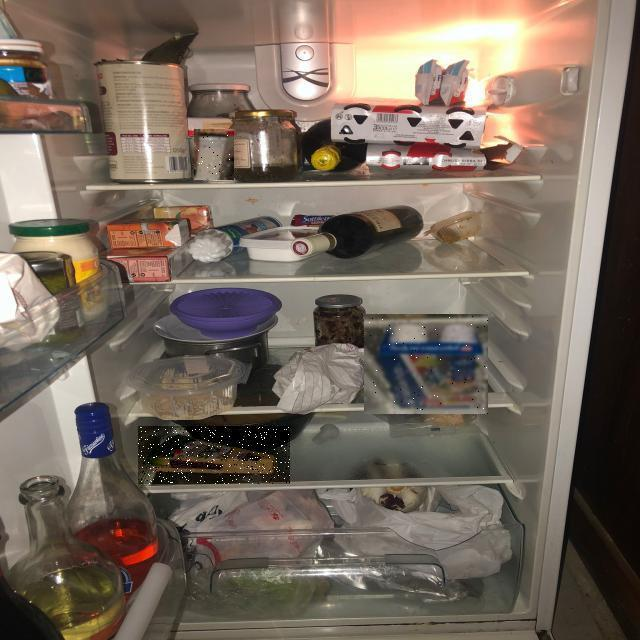cheese: (0, 242, 283, 640)
